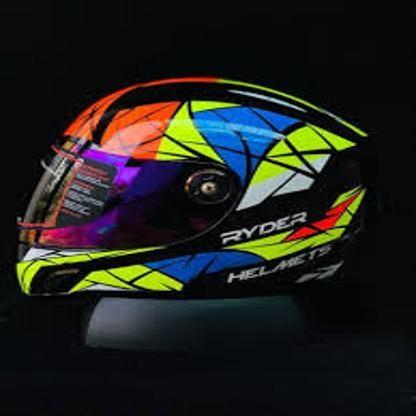not trash: (17, 79, 371, 300)
